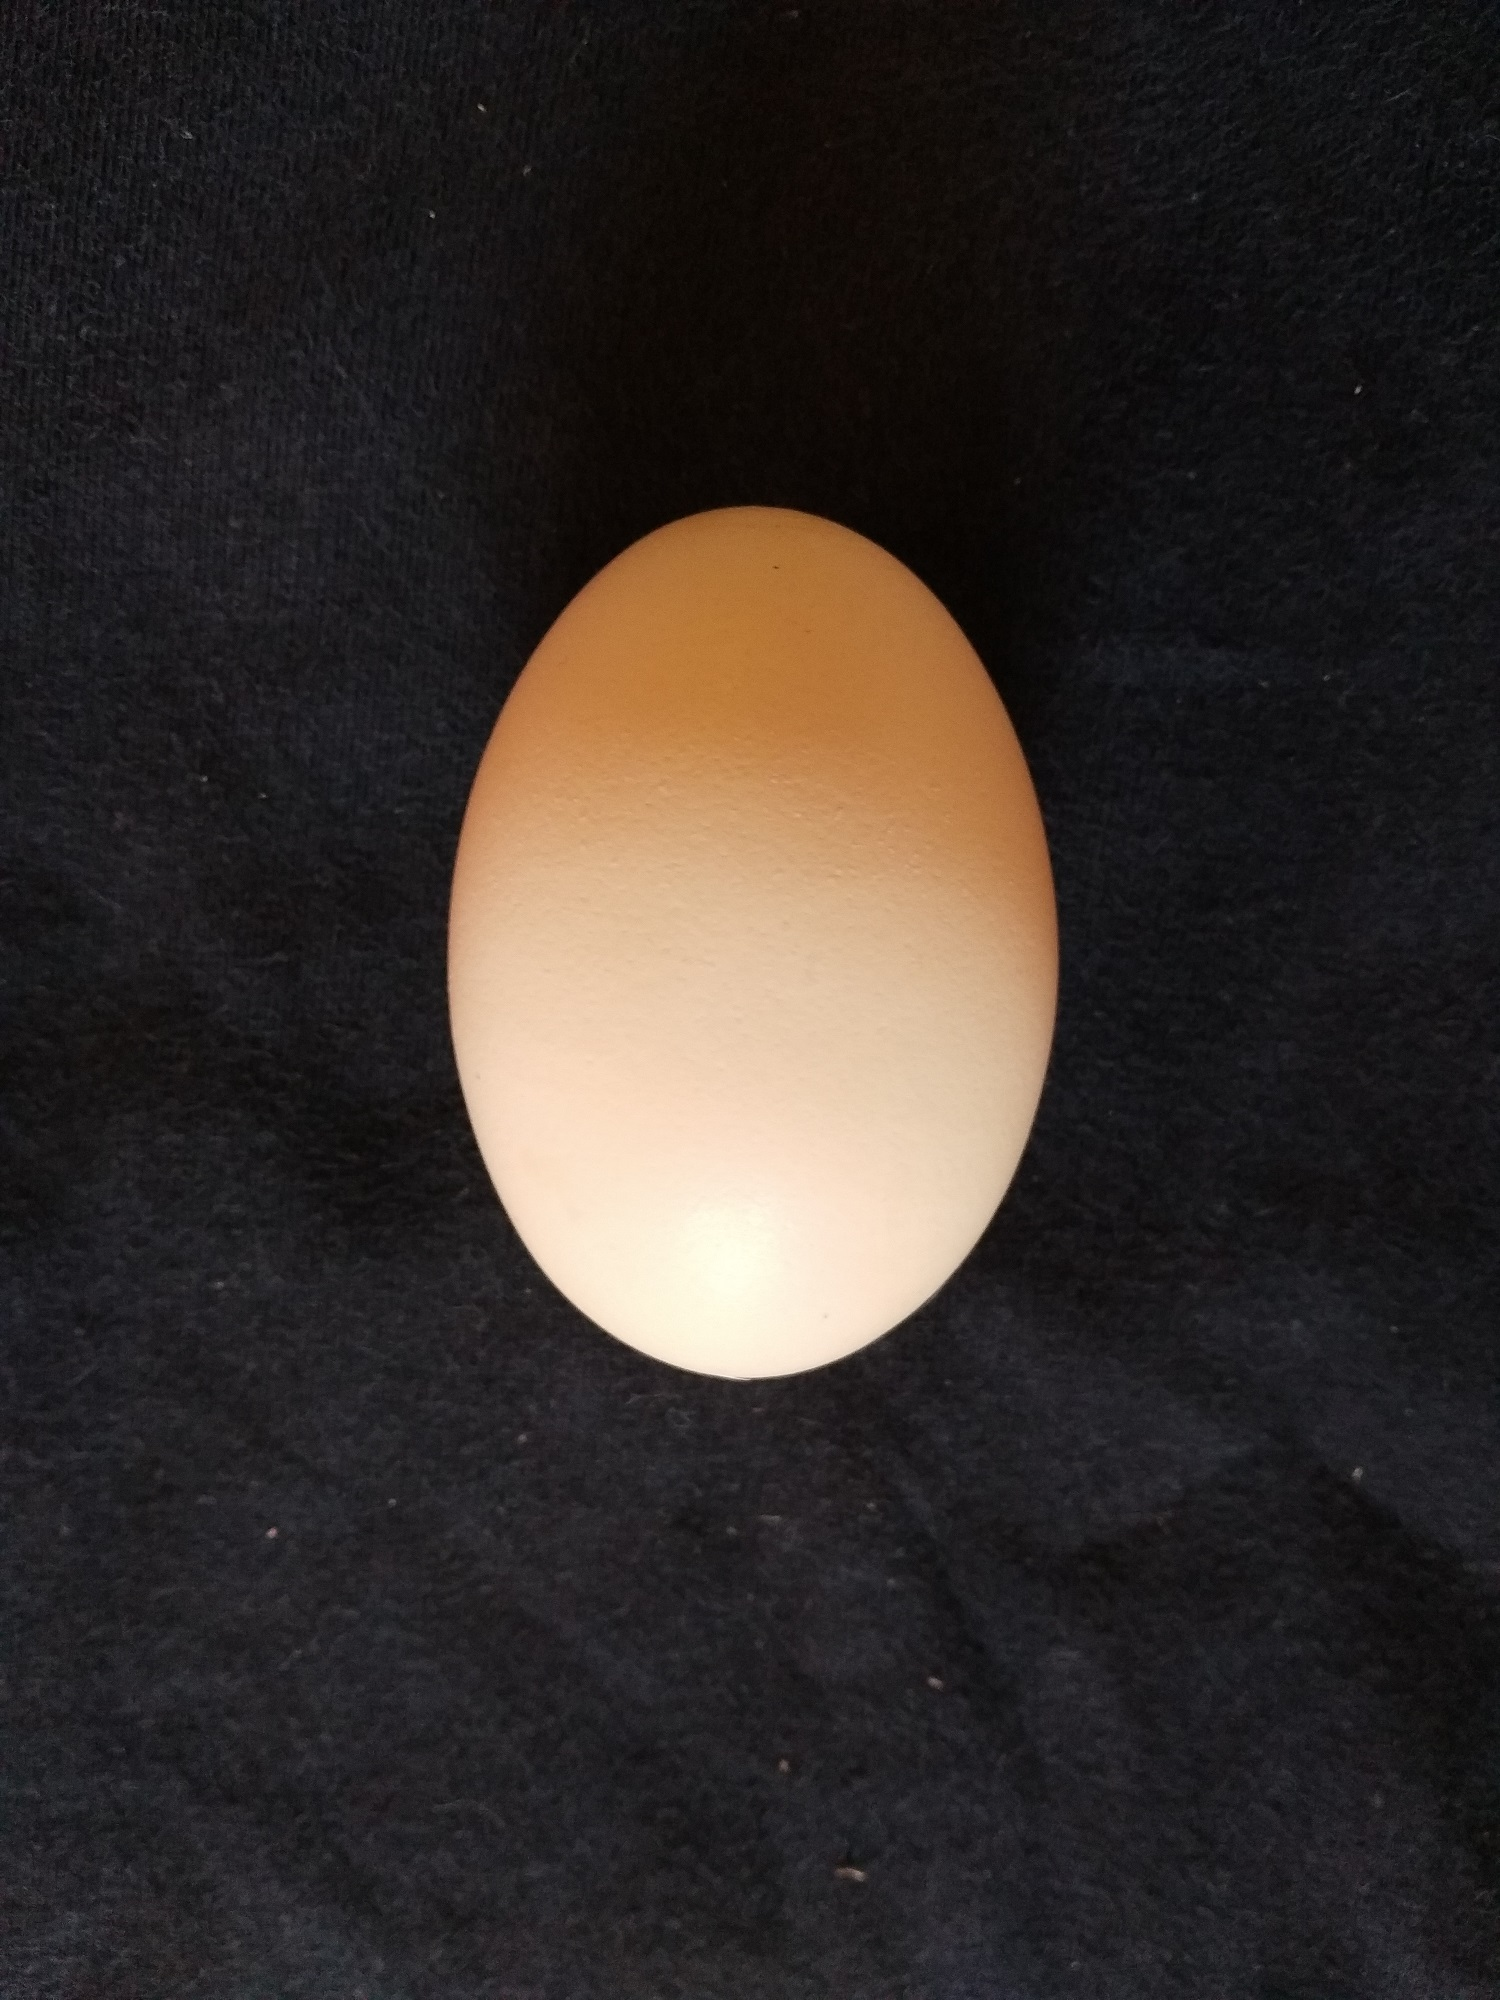Male: (436, 502, 1064, 1387)
